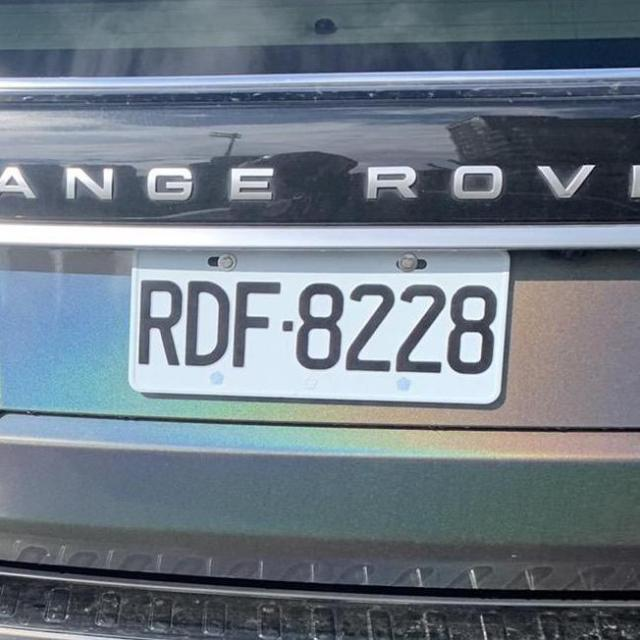W: (126, 244, 515, 406)
